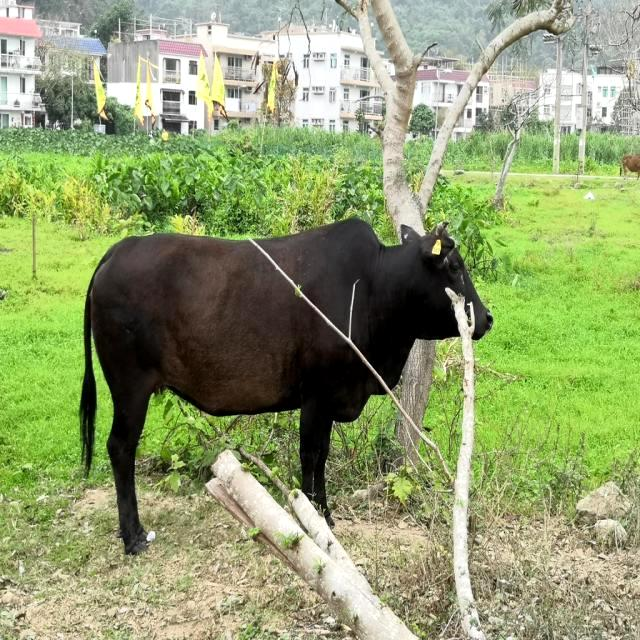COW: (81, 235, 381, 552), (263, 219, 491, 384)
